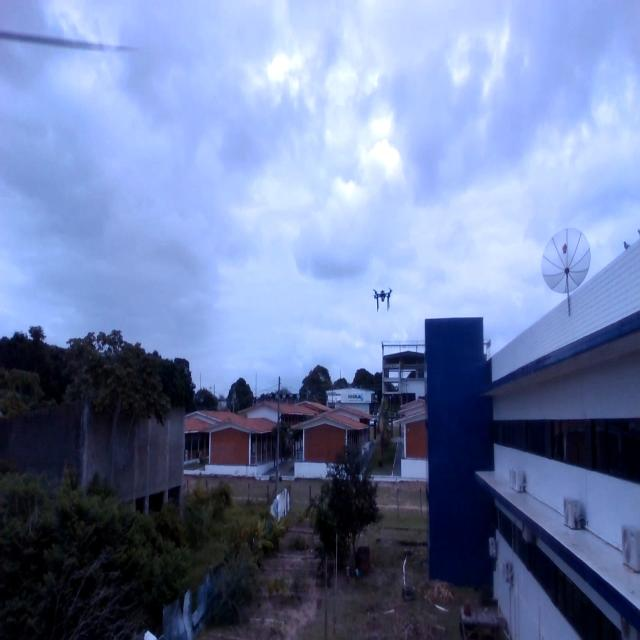-uav-: (367, 277, 396, 317)
